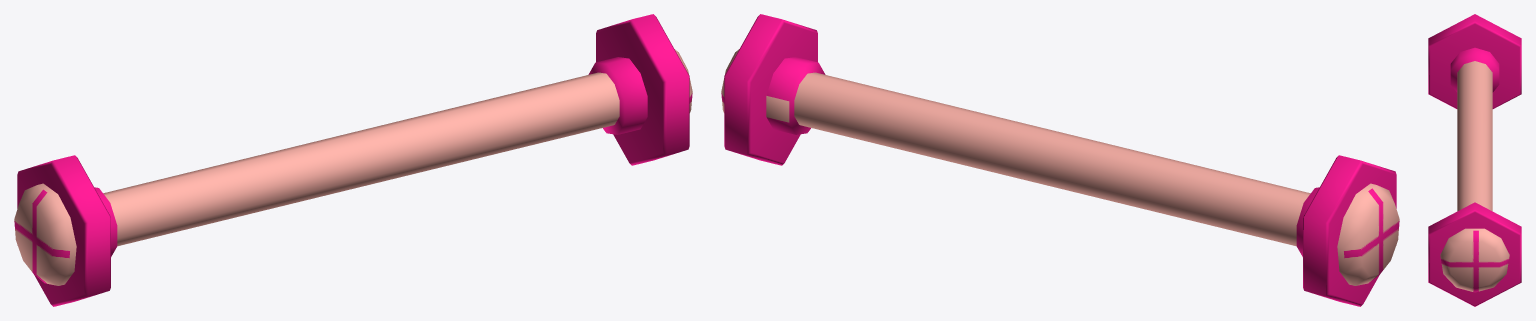
The model's file is MEC0110024.fbx.
The picture shows the model from 3 angles, left to right: view 1: azimuth 30°, elevation 25°; view 2: azimuth 150°, elevation 25°; view 3: azimuth 270°, elevation 25°; orthographic projection. The views are drawn at different scales.
Parts seen in each view (by area): view 1: smMEC0110024; view 2: smMEC0110024; view 3: smMEC0110024.
Part boxes in pixels (x1,y1,x2,y2): smMEC0110024: (14, 14, 692, 306); smMEC0110024: (721, 14, 1399, 306); smMEC0110024: (1428, 14, 1521, 306).
Bounding box in the file's own units: 300 × 65.59 × 56.8.
1 material, 1 textured.
